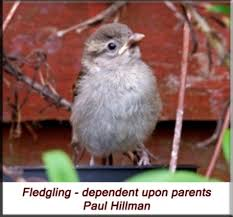hsparrow: (61, 19, 166, 177)
